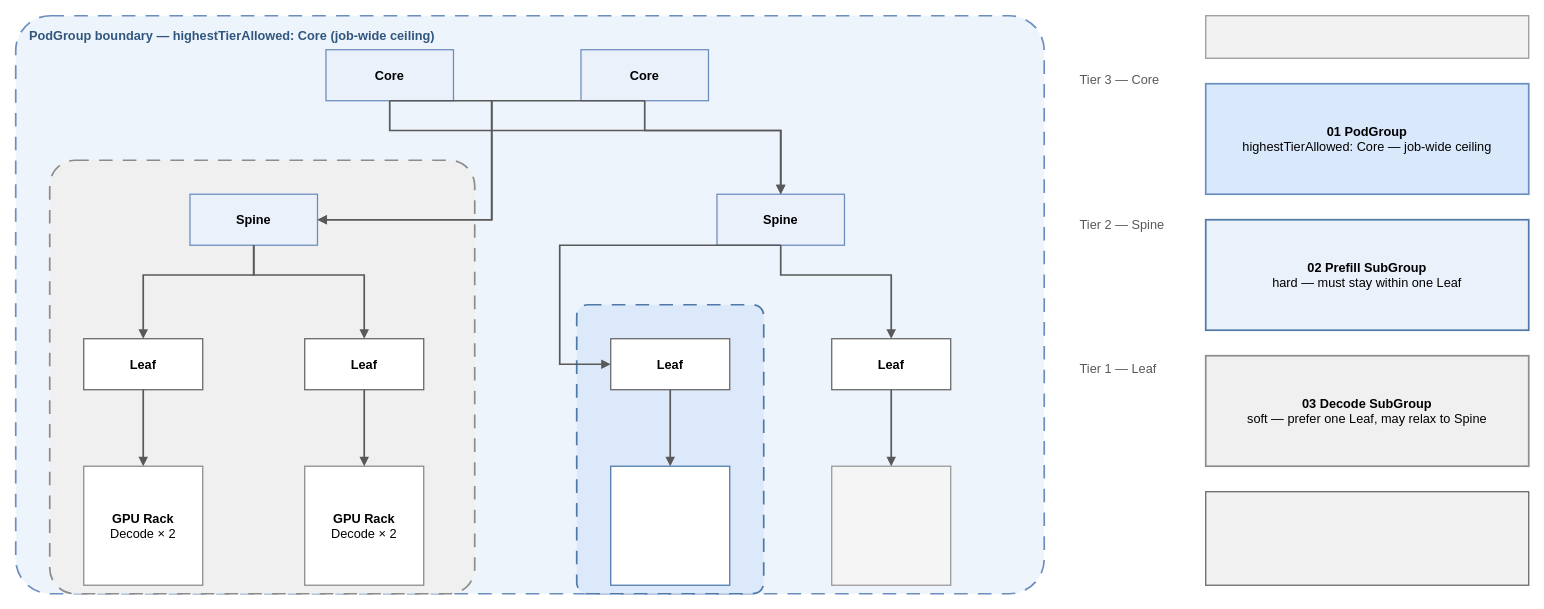
Some shapes in this 1544 by 609 pixel diagram are drawn without their labels. Each missing label, with the box of its shape:
Decode SubGroup — soft, may relax to Spine: (48, 159, 475, 594)
Gang readiness, role minimums, and topology constraints must all hold.: (1205, 491, 1529, 585)
GPU Rack Available capacity: (831, 465, 951, 585)
GPU Rack Prefill × 4: (610, 465, 730, 585)
Placement rules: (1205, 15, 1529, 58)
Prefill SubGroup — hard, one Leaf only: (575, 303, 764, 594)
